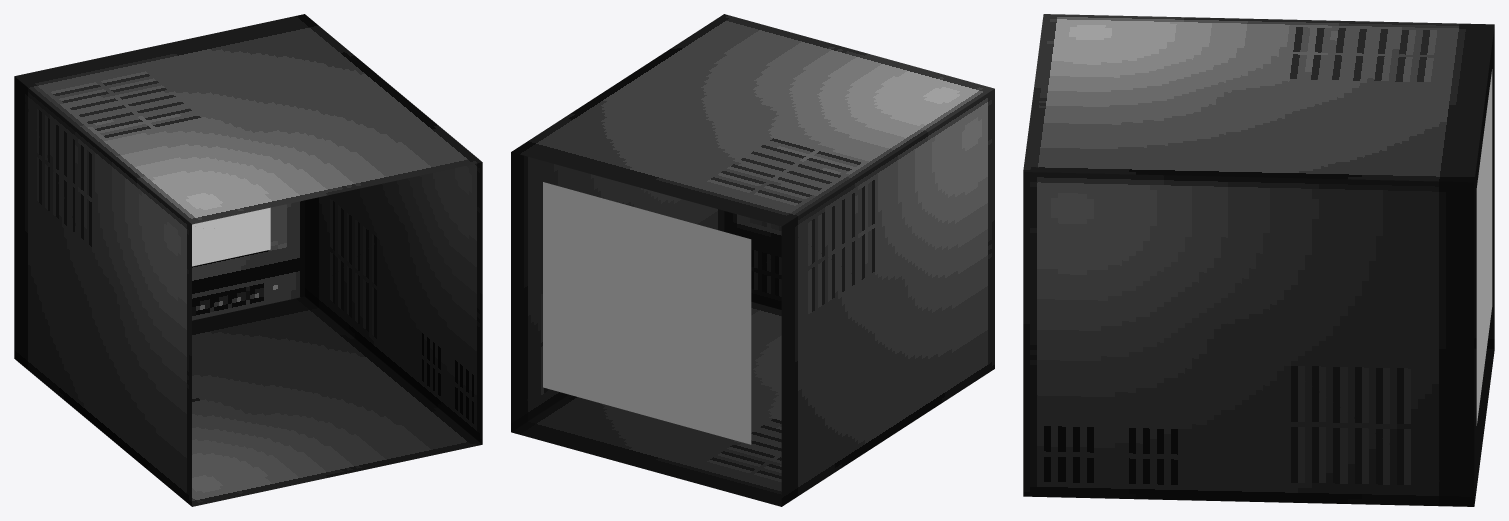
Rendered from primary_074.glb.
3 views of the same model, side by side, from view 1: azimuth 30°, elevation 25°; view 2: azimuth 150°, elevation 25°; view 3: azimuth 270°, elevation 25° (orthographic). The views are drawn at different scales.
Visible parts, largest first — view 1: Object; view 2: Object; view 3: Object.
Part boxes in pixels (x1=…): Object: x1=14, y1=14, x2=482, y2=506; Object: x1=511, y1=14, x2=994, y2=506; Object: x1=1023, y1=14, x2=1494, y2=506.
Bounding box in the file's own units: 0.6807 × 0.6122 × 0.8059.
7 materials, 7 textured.
